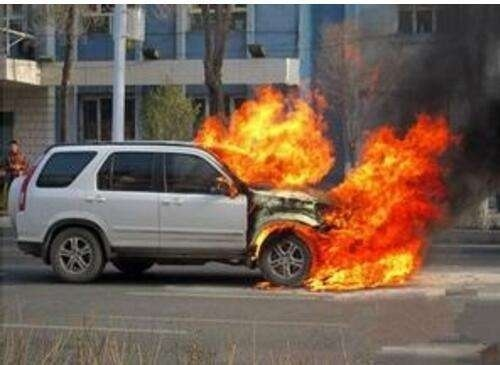fire: (204, 82, 464, 292)
